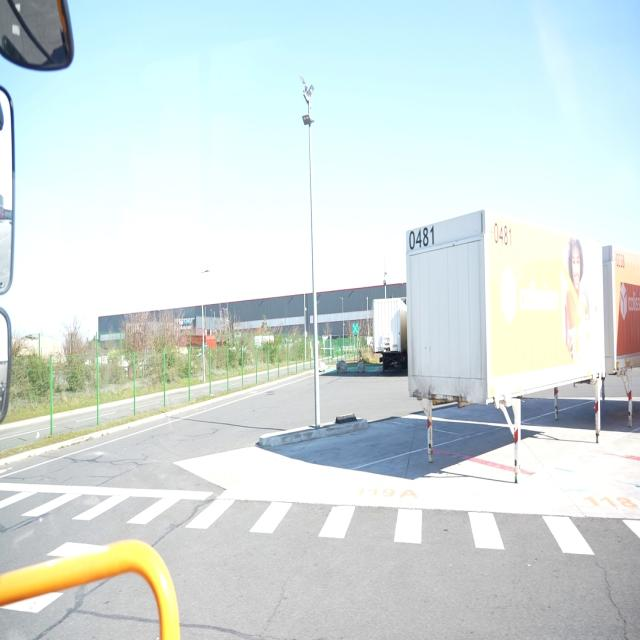Code: (406, 224, 438, 256), (492, 217, 513, 250)
